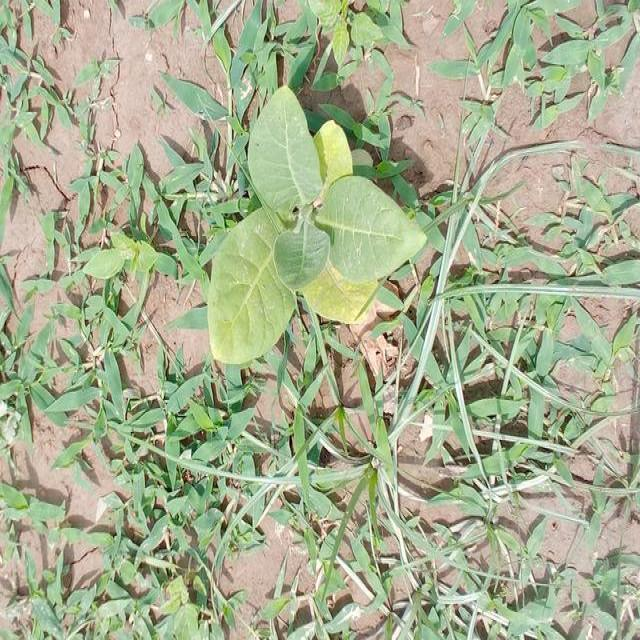crop: (214, 79, 426, 365)
